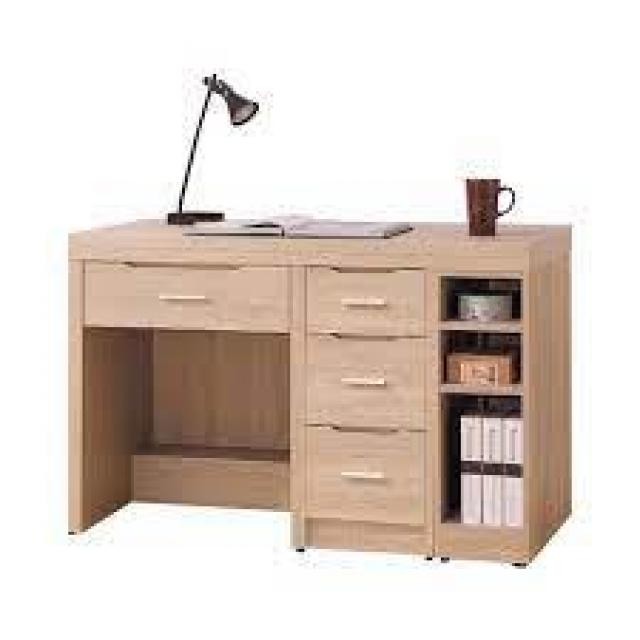desk: (34, 169, 595, 582)
